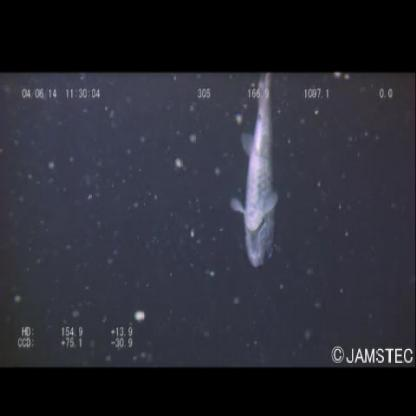Bio: (227, 74, 282, 272)
